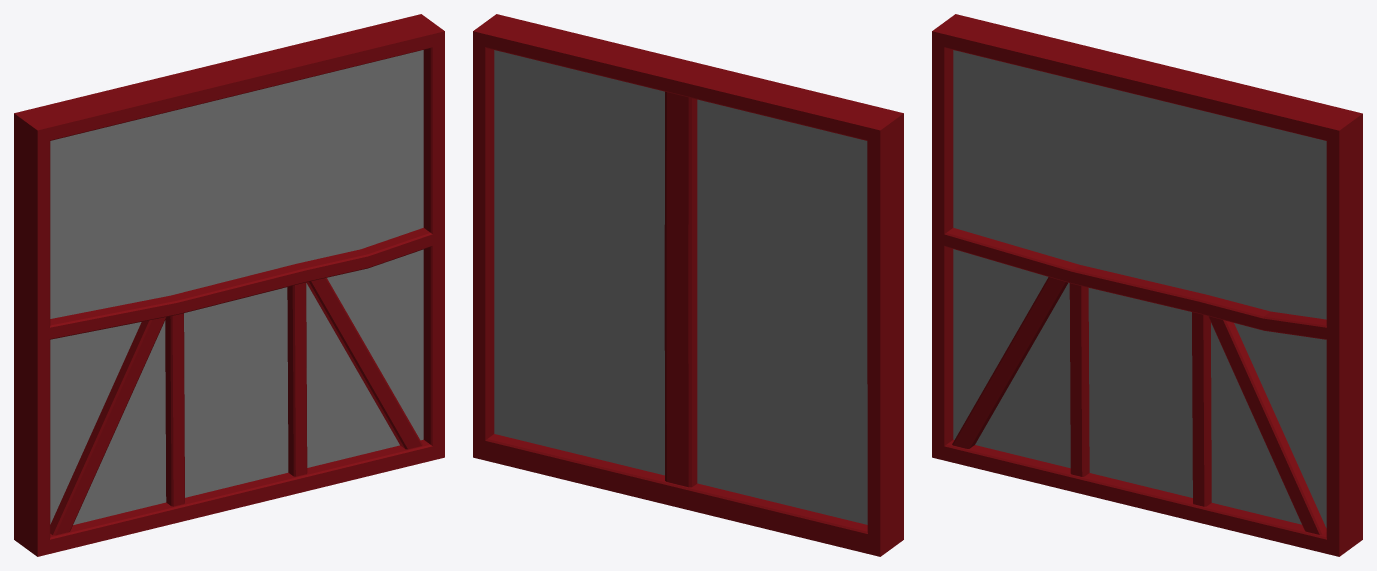
File: SM_MH_01_Wood_01_Wall_03.fbx
3 renders of one model, left to right at view 1: azimuth 30°, elevation 25°; view 2: azimuth 150°, elevation 25°; view 3: azimuth 330°, elevation 25°, orthographic.
Visible parts, largest first — view 1: SM_MH_01_Wood_01_Wall_03_LOD0; view 2: SM_MH_01_Wood_01_Wall_03_LOD0; view 3: SM_MH_01_Wood_01_Wall_03_LOD0.
Boxes of the visible parts, box(x1,y1,x2,y2) form: SM_MH_01_Wood_01_Wall_03_LOD0: box(14, 14, 444, 556); SM_MH_01_Wood_01_Wall_03_LOD0: box(473, 14, 903, 556); SM_MH_01_Wood_01_Wall_03_LOD0: box(932, 14, 1362, 556).
Size of what is drawn, in the model's own units: 300 by 300 by 30.
